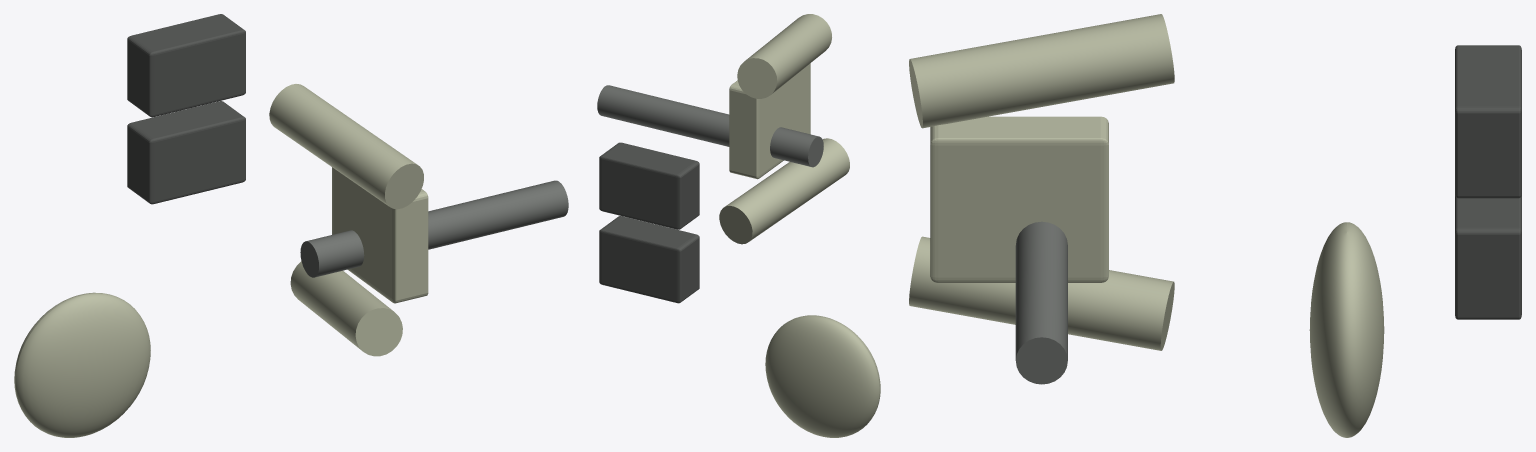
File: v-u06-vanguard-combat-medic-lod2.glb
3 renders of one model, left to right at view 1: azimuth 30°, elevation 25°; view 2: azimuth 150°, elevation 25°; view 3: azimuth 270°, elevation 25°, orthographic. The views are drawn at different scales.
Visible parts, largest first — view 1: medic_drone, soldier_0_boot_-1, soldier_0_boot_1, soldier_0_arm_1, soldier_0_chest, soldier_0_rifle, soldier_0_arm_-1; view 2: medic_drone, soldier_0_boot_-1, soldier_0_boot_1, soldier_0_rifle, soldier_0_chest, soldier_0_arm_-1, soldier_0_arm_1; view 3: soldier_0_chest, soldier_0_arm_1, medic_drone, soldier_0_arm_-1, soldier_0_boot_1, soldier_0_boot_-1, soldier_0_rifle.
Boxes of the visible parts, x1,y1,x2,y2 form: medic_drone: [14, 292, 150, 437]; soldier_0_boot_-1: [127, 101, 245, 204]; soldier_0_boot_1: [127, 14, 245, 117]; soldier_0_arm_1: [269, 84, 423, 209]; soldier_0_chest: [332, 167, 428, 303]; soldier_0_rifle: [300, 180, 568, 277]; soldier_0_arm_-1: [290, 261, 402, 356]; medic_drone: [765, 315, 880, 437]; soldier_0_boot_-1: [599, 216, 699, 303]; soldier_0_boot_1: [599, 142, 699, 229]; soldier_0_rifle: [597, 85, 823, 167]; soldier_0_chest: [729, 63, 810, 179]; soldier_0_arm_-1: [719, 138, 849, 244]; soldier_0_arm_1: [737, 14, 831, 98]; soldier_0_chest: [930, 116, 1108, 282]; soldier_0_arm_1: [909, 14, 1174, 128]; medic_drone: [1309, 222, 1384, 437]; soldier_0_arm_-1: [909, 236, 1174, 350]; soldier_0_boot_1: [1455, 45, 1521, 198]; soldier_0_boot_-1: [1455, 194, 1521, 319]; soldier_0_rifle: [1015, 221, 1067, 384].
Size of what is drawn, in the model's own units: 1.88 by 1.51 by 1.65.
